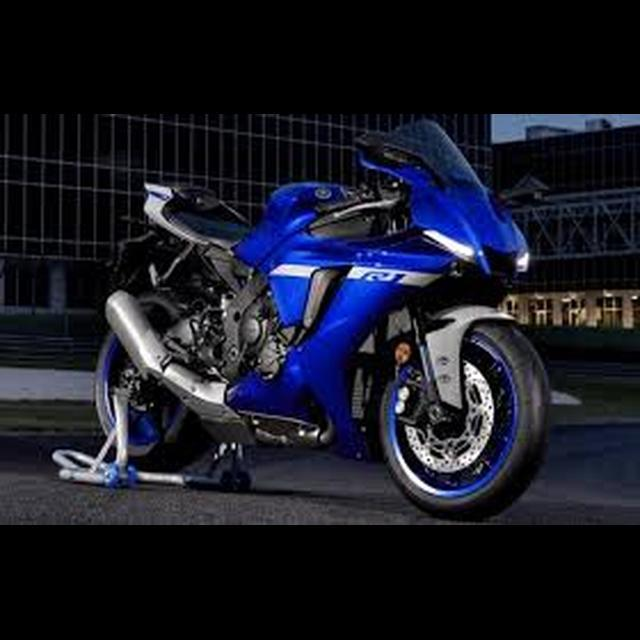motorcycle: (41, 115, 555, 516)
